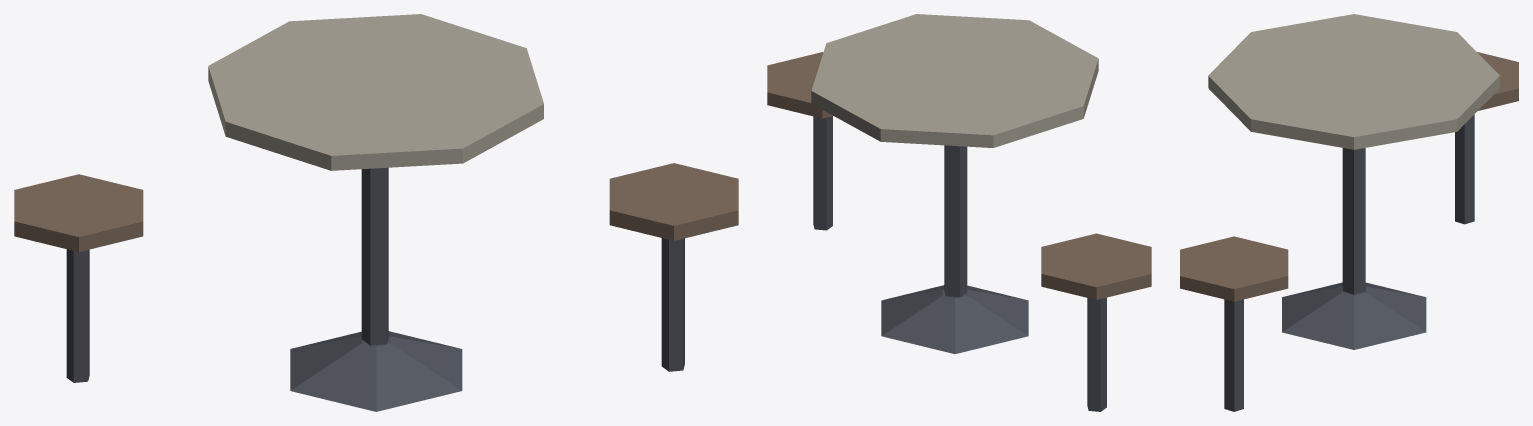
Rendered from mesa_cafe.glb.
The picture shows the model from 3 angles, left to right: view 1: azimuth 30°, elevation 25°; view 2: azimuth 150°, elevation 25°; view 3: azimuth 270°, elevation 25°; orthographic projection. The views are drawn at different scales.
Parts seen in each view (by area): view 1: MesaCafe; view 2: MesaCafe; view 3: MesaCafe.
Boxes of the visible parts, left/top/right/bottom form: MesaCafe: left=14, top=14, right=738, bottom=411; MesaCafe: left=767, top=14, right=1151, bottom=411; MesaCafe: left=1180, top=14, right=1518, bottom=411.
Size of the model in its own units: 1.64 by 0.76 by 0.9756.
